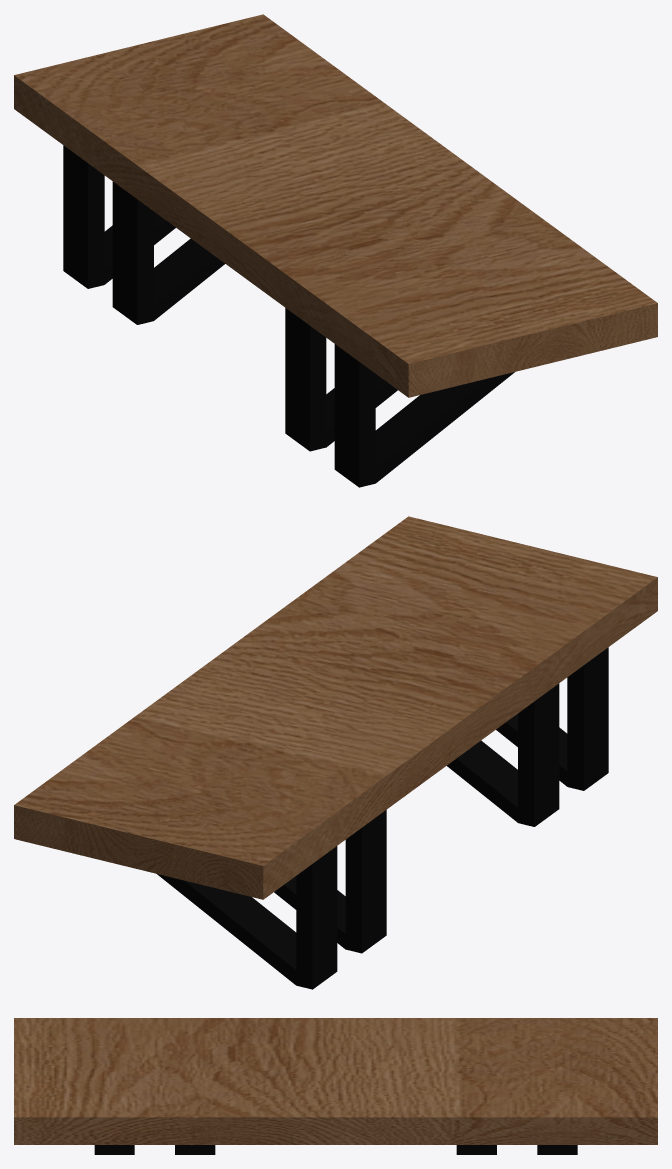
File: étagère 1.fbx
3 renders of one model, top to bottom at view 1: azimuth 30°, elevation 25°; view 2: azimuth 150°, elevation 25°; view 3: azimuth 270°, elevation 25°, orthographic. The views are drawn at different scales.
Parts seen in each view (by area): view 1: Cube.075; view 2: Cube.075; view 3: Cube.075.
Part boxes in pixels (box(x1,y1,x2,y2)): Cube.075: box(14, 14, 657, 487); Cube.075: box(14, 516, 657, 989); Cube.075: box(14, 1018, 657, 1154).
Bounding box in the file's own units: 40.24 × 24.62 × 110.
2 materials, 1 textured.
